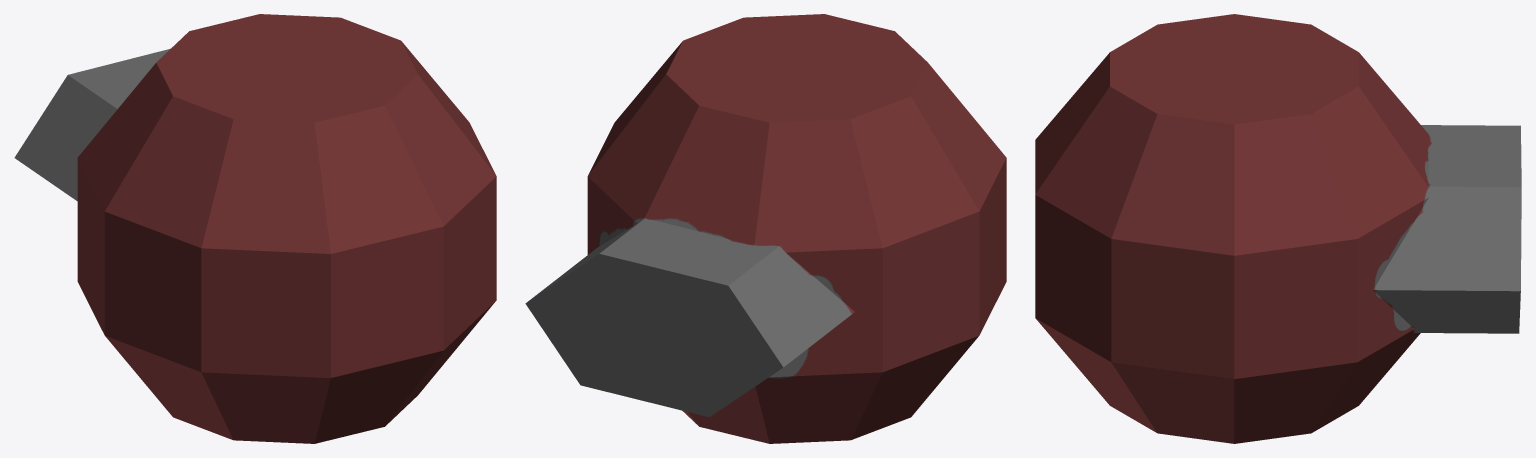
Rendered from glove.glb.
3 views of the same model, side by side, from view 1: azimuth 30°, elevation 25°; view 2: azimuth 150°, elevation 25°; view 3: azimuth 270°, elevation 25° (orthographic).
Bounding box in the file's own units: 0.3401 × 0.286 × 0.395.
1 material, 1 textured.
